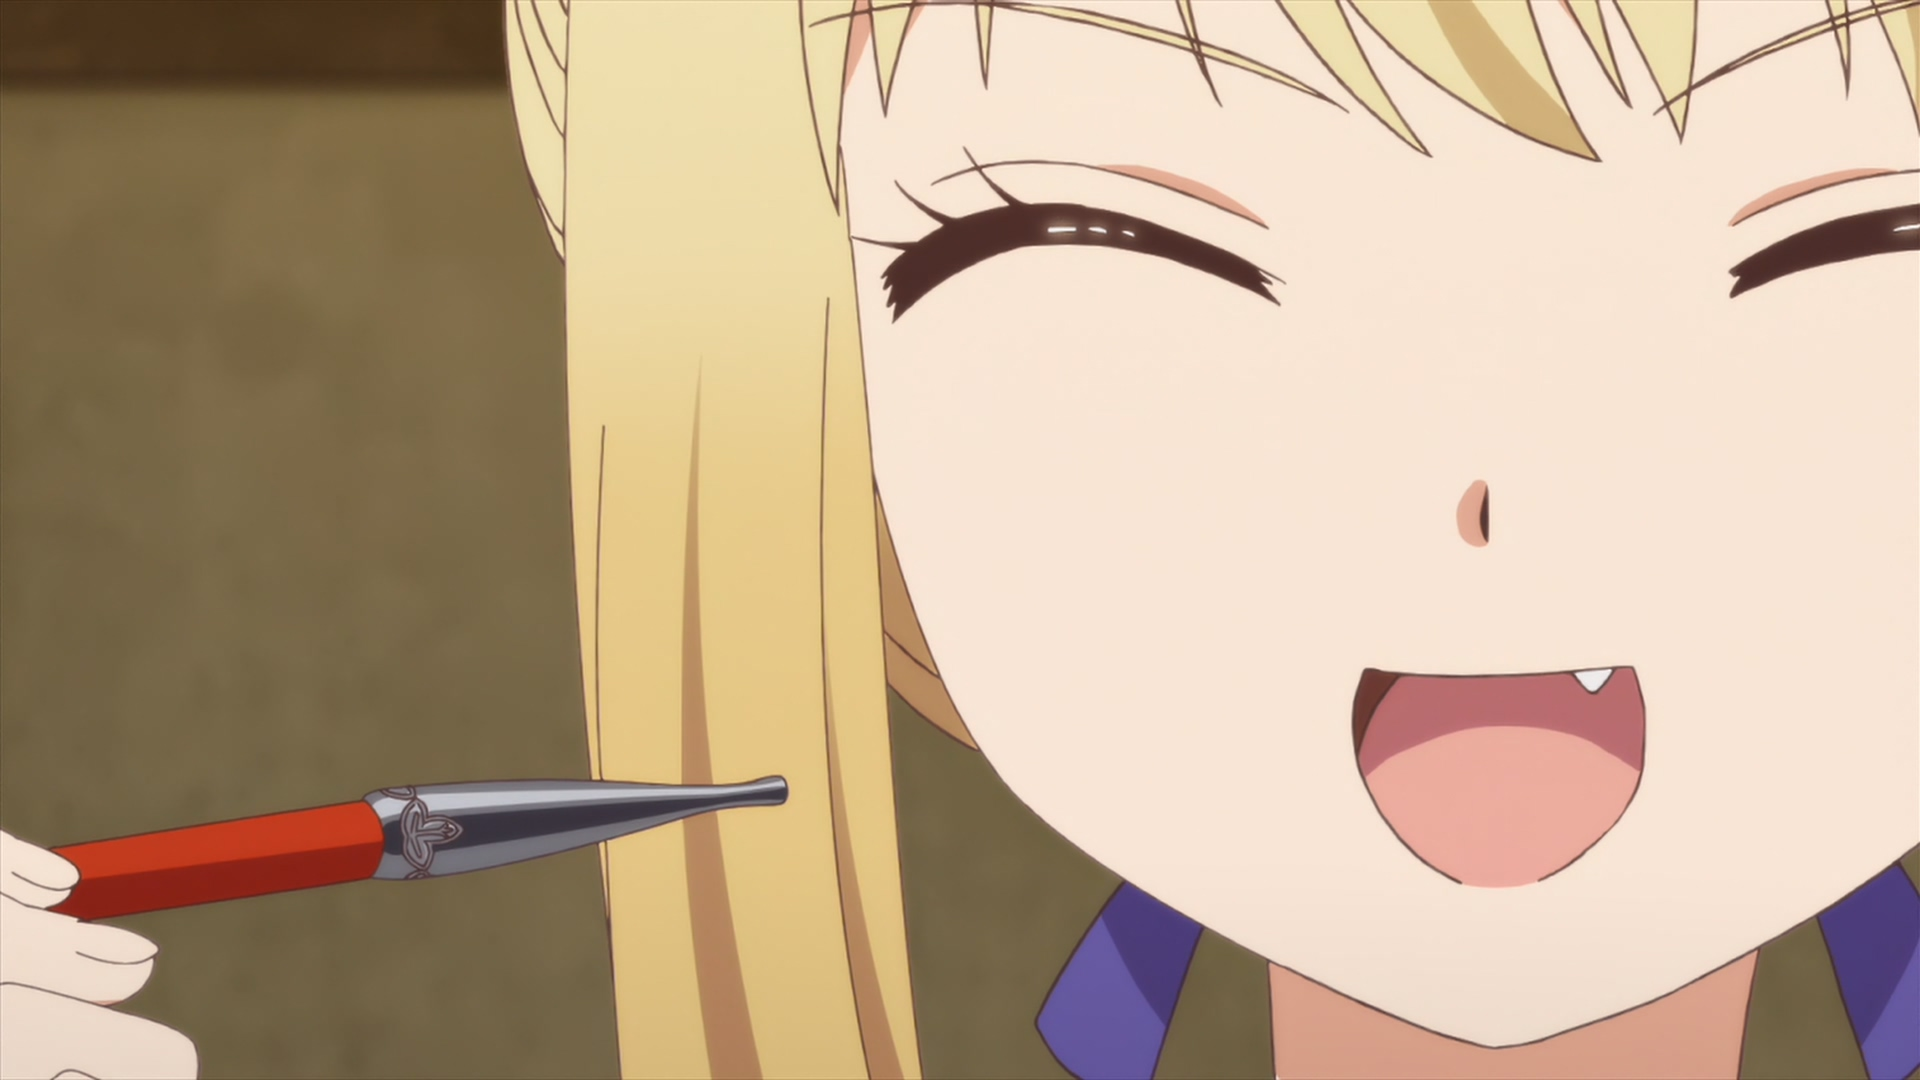桐: (504, 1, 1920, 1080)
